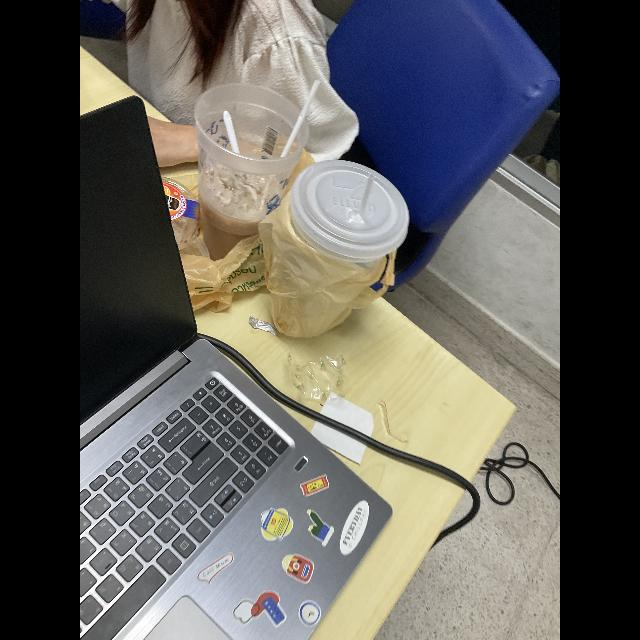plastic_bag: (258, 191, 397, 343), (156, 229, 278, 313)
plastic_cultery: (220, 108, 252, 154)
plastic_cup: (195, 79, 308, 263), (153, 170, 199, 228)
plastic_cup_lid: (289, 152, 411, 260)
scrap_paper: (308, 391, 378, 465)
scrap_plastic: (280, 348, 352, 404), (250, 314, 282, 336)
straw: (277, 79, 323, 157)
